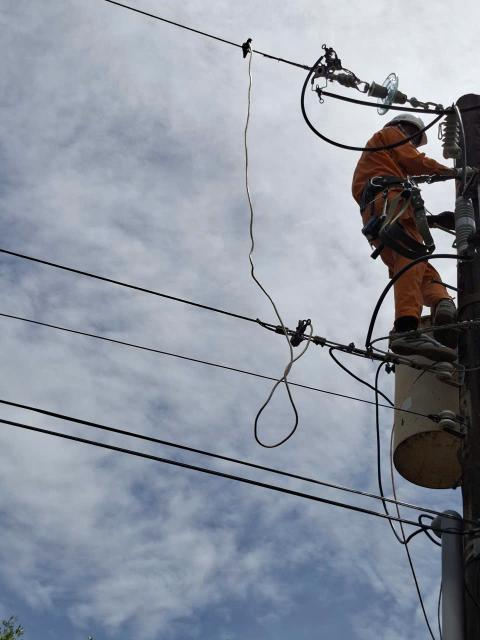gloves: (442, 162, 457, 181)
harness: (347, 175, 409, 204)
helmet: (375, 111, 435, 148)
shoes: (388, 312, 458, 368), (429, 299, 467, 355)
